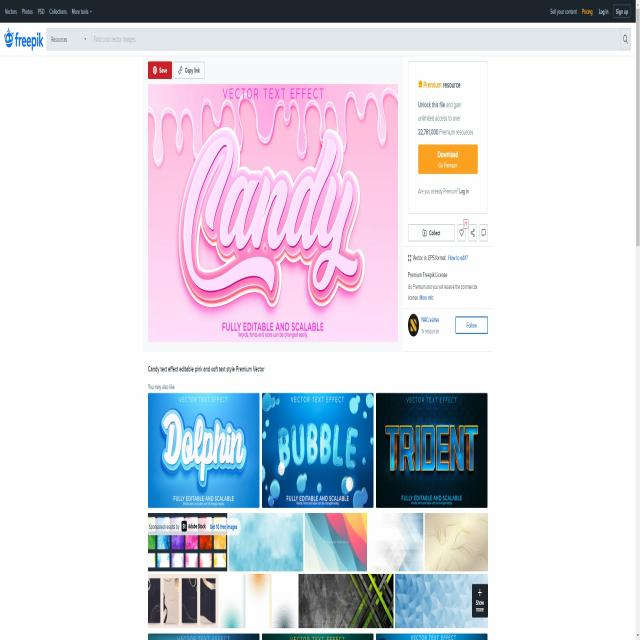menu-bar: (546, 3, 632, 22)
search: (44, 23, 632, 51)
tab-bar: (2, 3, 94, 20)
